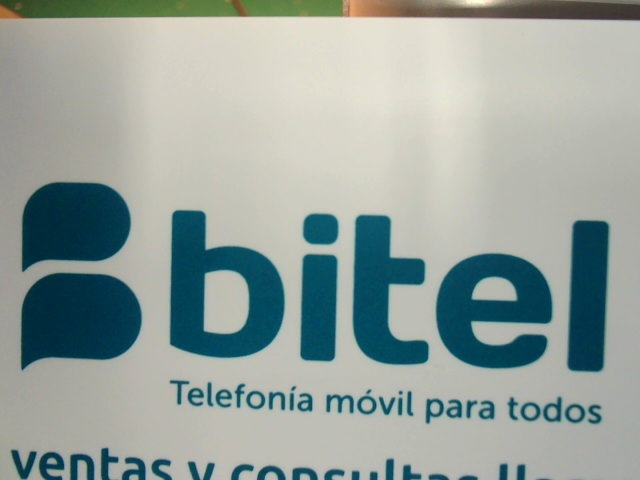BE_bitel: (13, 173, 610, 377)
